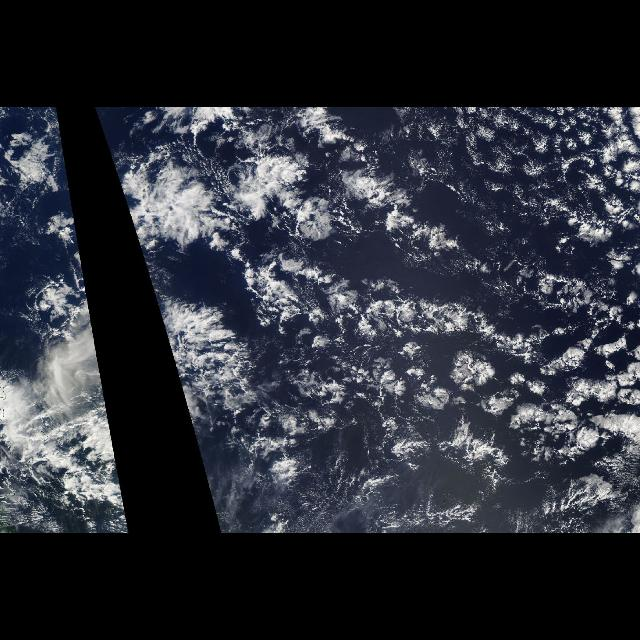Fish: (238, 242, 622, 450)
Flower: (264, 113, 632, 489)
Gravel: (422, 112, 634, 228)
